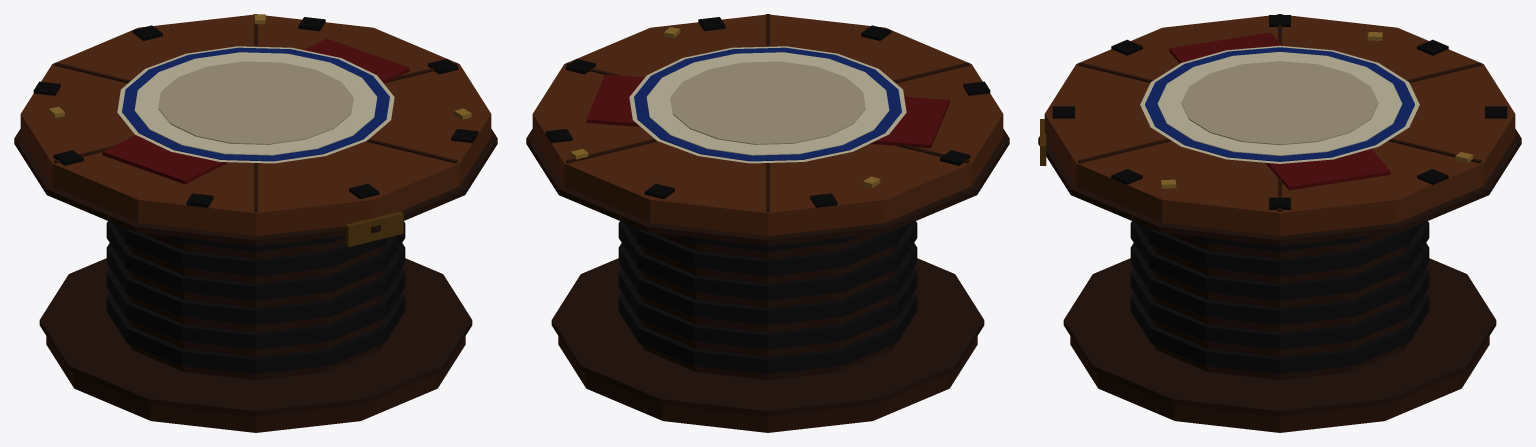
File: SM_Hide_Cheese_Table.glb
The picture shows the model from 3 angles, left to right: view 1: azimuth 30°, elevation 25°; view 2: azimuth 150°, elevation 25°; view 3: azimuth 270°, elevation 25°; orthographic projection.
Parts seen in each view (by area): view 1: SM_Hide_Cheese_Table-col; view 2: SM_Hide_Cheese_Table-col; view 3: SM_Hide_Cheese_Table-col.
Boxes of the visible parts, x1=… form: SM_Hide_Cheese_Table-col: x1=14, y1=14, x2=497, y2=432; SM_Hide_Cheese_Table-col: x1=526, y1=14, x2=1009, y2=432; SM_Hide_Cheese_Table-col: x1=1038, y1=14, x2=1521, y2=432.
Size of the model in its own units: 1.52 by 0.8385 by 1.52.
